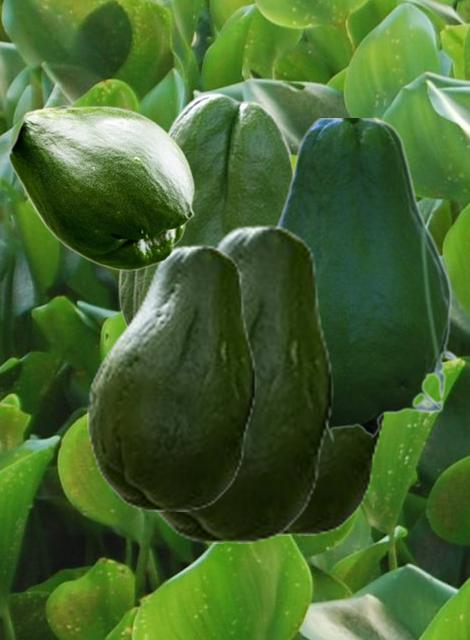sayote: (274, 118, 457, 442), (149, 224, 332, 542), (87, 244, 255, 510), (118, 92, 293, 326), (8, 105, 194, 270), (284, 416, 384, 534)
